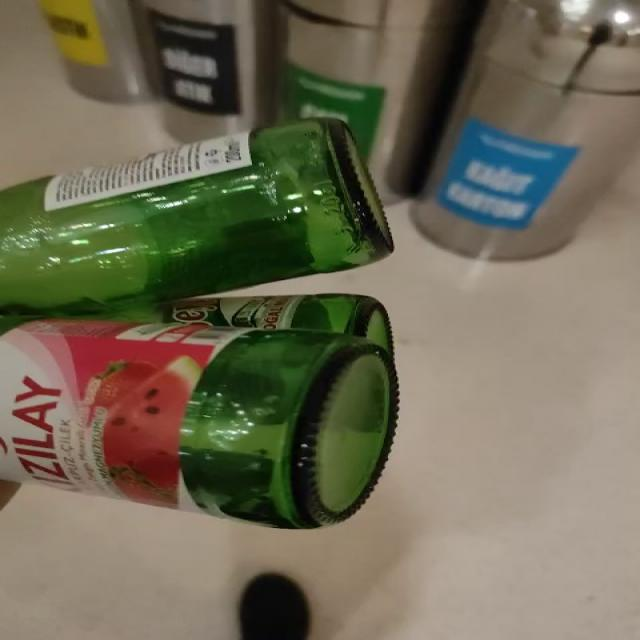glass: (0, 118, 399, 529)
